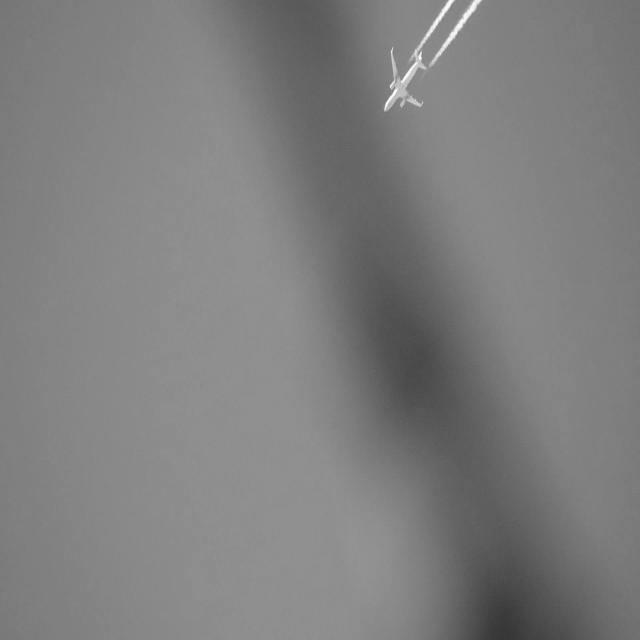aeroplane: (379, 38, 431, 122)
